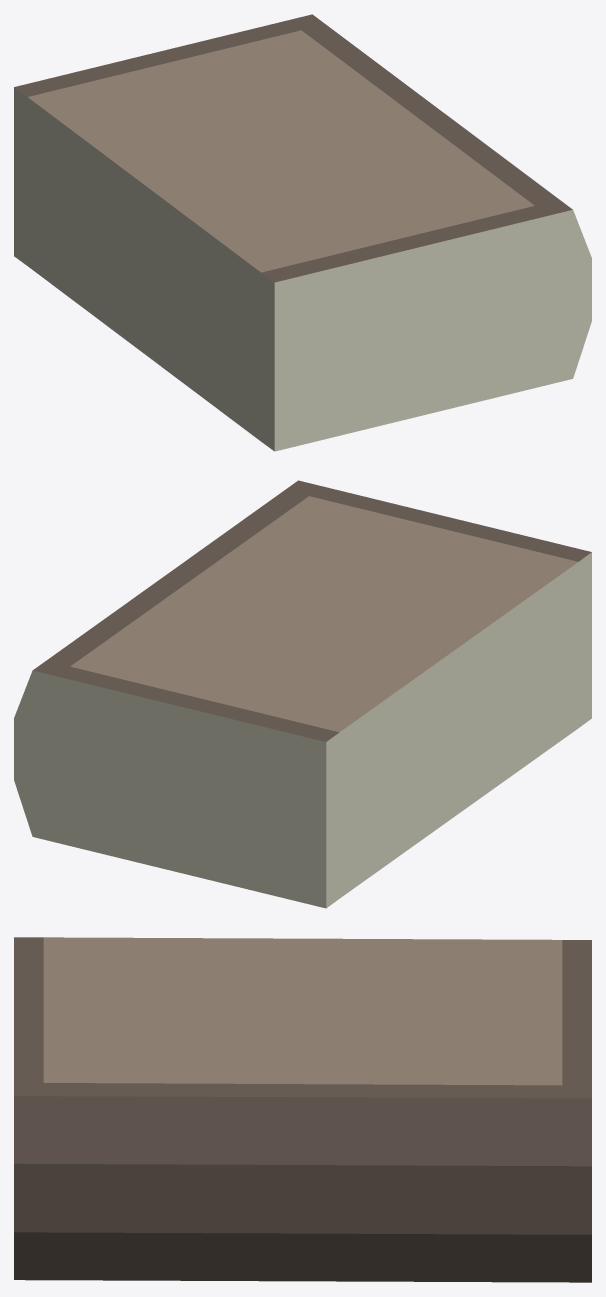
Rendered from RG-Dungeon_Book-02.fbx.
3 renders of one model, top to bottom at view 1: azimuth 30°, elevation 25°; view 2: azimuth 150°, elevation 25°; view 3: azimuth 270°, elevation 25°, orthographic. The views are drawn at different scales.
Visible parts, largest first — view 1: RG-Dungeon_Book-02; view 2: RG-Dungeon_Book-02; view 3: RG-Dungeon_Book-02.
Part boxes in pixels (left/top/right/bottom): RG-Dungeon_Book-02: left=14, top=14, right=591, bottom=451; RG-Dungeon_Book-02: left=14, top=480, right=591, bottom=908; RG-Dungeon_Book-02: left=14, top=937, right=591, bottom=1282.
Size of the model in its own units: 1.72 by 0.8644 by 2.46.
